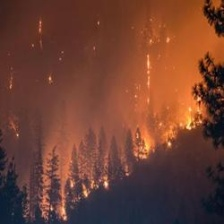fire: (41, 105, 184, 219)
